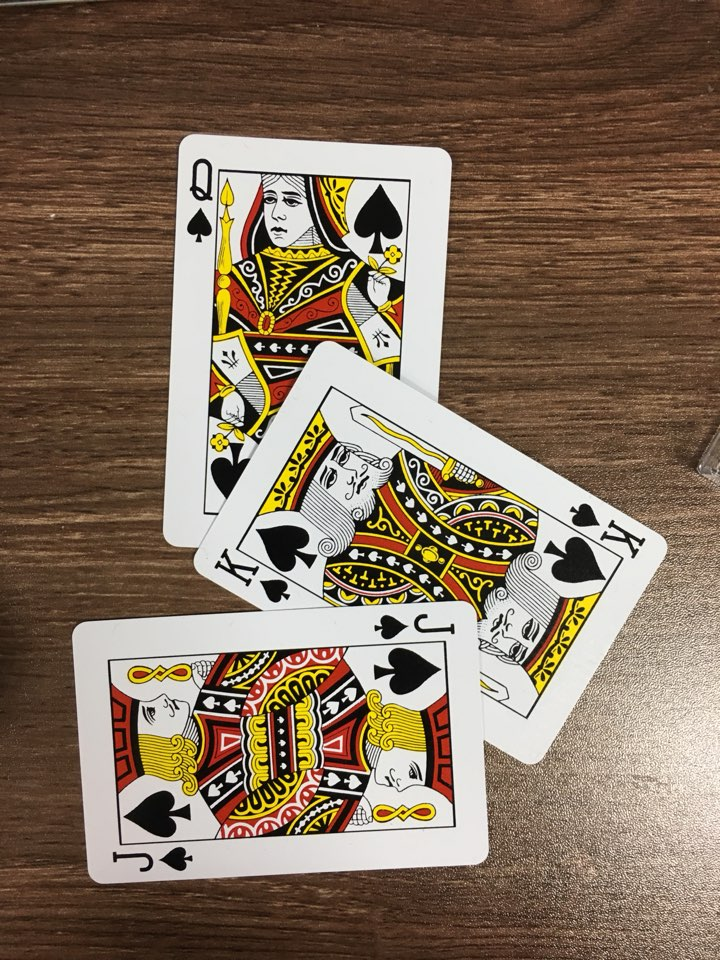jack: (51, 594, 537, 897)
king: (157, 330, 677, 783)
queen: (137, 107, 481, 578)
